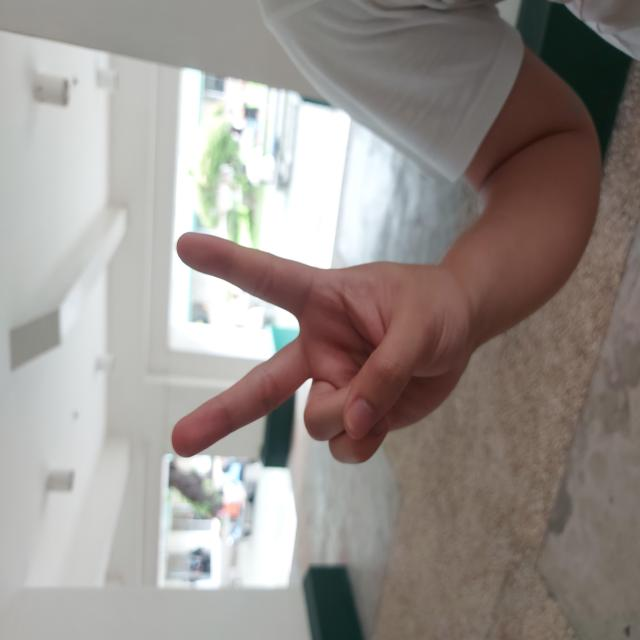V: (172, 167, 410, 472)
